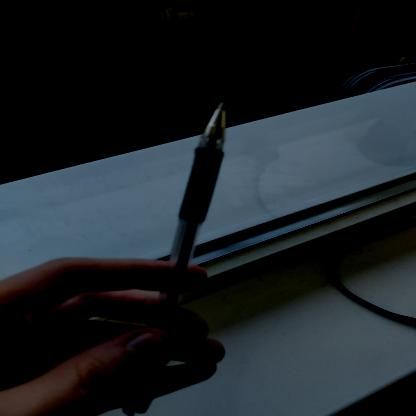pen: (100, 92, 244, 416)
